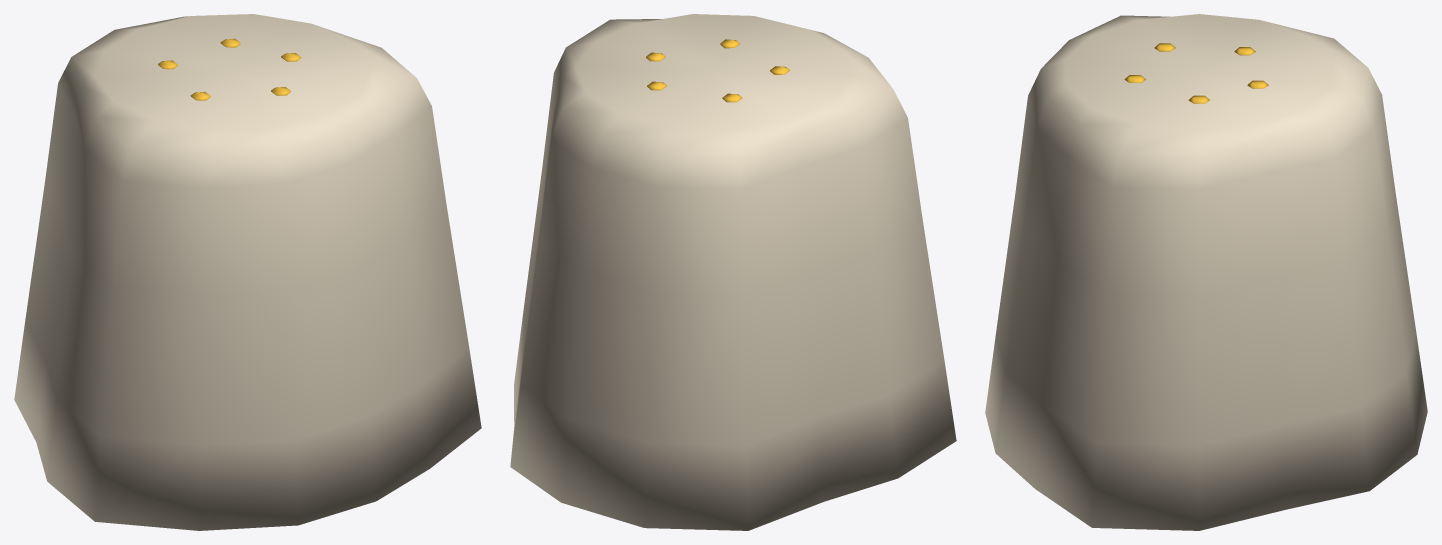
The model's file is step_rock_safe.glb.
3 renders of one model, left to right at view 1: azimuth 30°, elevation 25°; view 2: azimuth 150°, elevation 25°; view 3: azimuth 270°, elevation 25°, orthographic.
Visible parts, largest first — view 1: Step_Rock_Safe_Body, Step_Rock_Safe_Marks; view 2: Step_Rock_Safe_Body, Step_Rock_Safe_Marks; view 3: Step_Rock_Safe_Body, Step_Rock_Safe_Marks.
Boxes of the visible parts, x1,y1,x2,y2 form: Step_Rock_Safe_Body: [14, 14, 481, 530]; Step_Rock_Safe_Marks: [158, 38, 301, 100]; Step_Rock_Safe_Body: [510, 14, 956, 530]; Step_Rock_Safe_Marks: [646, 39, 789, 102]; Step_Rock_Safe_Body: [985, 14, 1427, 530]; Step_Rock_Safe_Marks: [1124, 43, 1268, 103].
Size of the model in its own units: 2.03 by 1.81 by 2.
